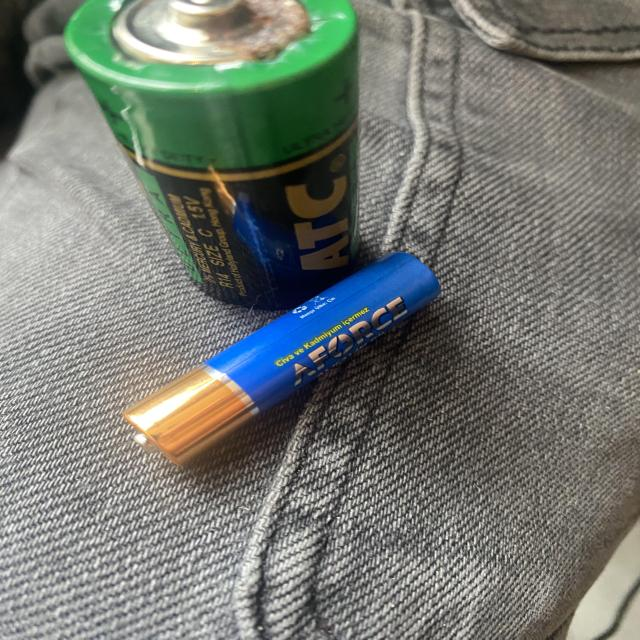AA: (121, 250, 441, 469)
